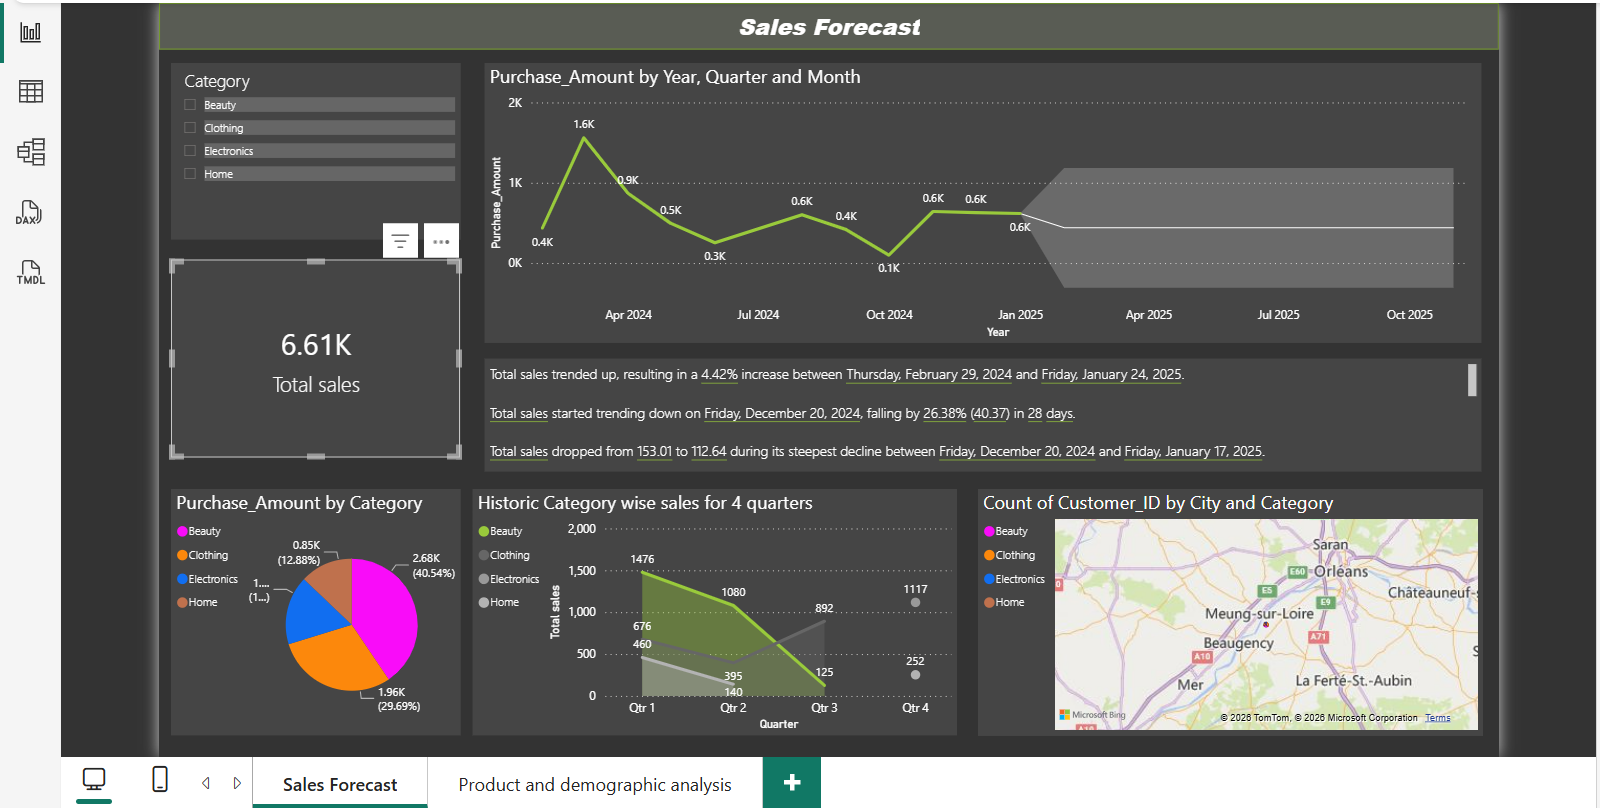

The dashboard page shown, as its layout file describes it:
{"tool":"powerbi","page":{"name":"Sales Forecast","canvas":[1280,720],"ordinal":0},"visuals":[{"type":"shape","box":[0,0,1279.5,44.5],"z":0},{"type":"areaChart","title":"Historic Category wise sales for 4 quarters","fields":{"Y":["walmart purchase data.Total sales"],"Series":["walmart purchase data.Category"],"Category":["walmart purchase data.Purchase_Date.Variation.Date Hierarchy.Quarter"]},"box":[298.8,464.1,462.5,235.2],"z":1000},{"type":"map","fields":{"Category":["walmart purchase data.City"],"Size":["CountNonNull(walmart purchase data.Customer_ID)"],"Series":["walmart purchase data.Category"]},"box":[782,464.1,481.6,235.2],"z":2000},{"type":"slicer","fields":{"Values":["walmart purchase data.Category"]},"box":[11.1,57.2,276.6,168.5],"z":3000},{"type":"card","fields":{"Values":["walmart purchase data.Total sales"]},"box":[11.1,244.8,276.6,189.1],"z":4000},{"type":"pieChart","fields":{"Category":["walmart purchase data.Category"],"Y":["Sum(walmart purchase data.Purchase_Amount)"]},"box":[11.1,464.1,276.6,235.2],"z":5000},{"type":"lineChart","fields":{"Category":["walmart purchase data.Purchase_Date.Variation.Date Hierarchy.Year","walmart purchase data.Purchase_Date.Variation.Date Hierarchy.Quarter","walmart purchase data.Purchase_Date.Variation.Date Hierarchy.Month","walmart purchase data.Purchase_Date.Variation.Date Hierarchy.Day"],"Y":["Sum(walmart purchase data.Purchase_Amount)"]},"box":[311.5,57.2,952.1,267],"z":6000},{"type":"textbox","box":[311.5,340.1,952.1,108.1],"z":7000}]}

Visuals, with their boxes on the page's 1280x720 design canvas (x1, y1, x2, y2). These are canvas units, not pixel positions in the 1600x808 screenshot, which may show the page scaled, cropped or inside an application window:
shape: 0, 0, 1280, 44
"Historic Category wise sales for 4 quarters" areaChart: 299, 464, 761, 699
map - walmart purchase data.City x CountNonNull(walmart purchase data.Customer_ID): 782, 464, 1264, 699
slicer - walmart purchase data.Category: 11, 57, 288, 226
card - walmart purchase data.Total sales: 11, 245, 288, 434
pieChart - walmart purchase data.Category x Sum(walmart purchase data.Purchase_Amount): 11, 464, 288, 699
lineChart - walmart purchase data.Purchase_Date.Variation.Date Hierarchy.Year x walmart purchase data.Purchase_Date.Variation.Date Hierarchy.Quarter: 312, 57, 1264, 324
textbox: 312, 340, 1264, 448
